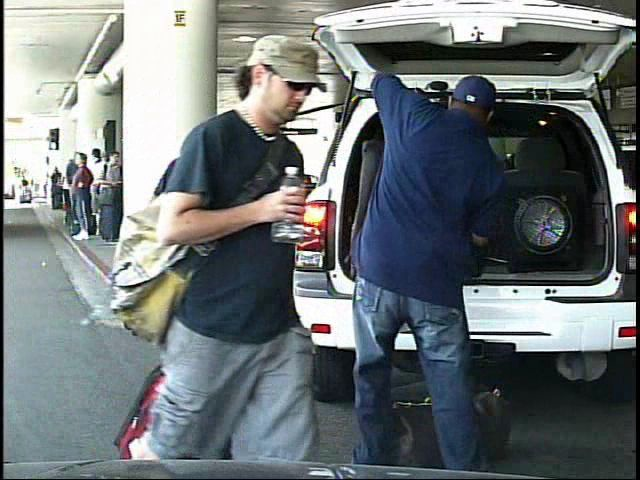person: (334, 33, 530, 478), (149, 20, 337, 480), (130, 124, 249, 352), (13, 174, 24, 205)
